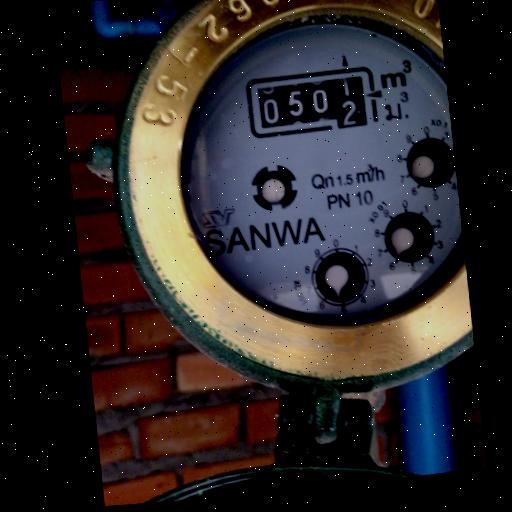0: (304, 78, 337, 123), (257, 85, 286, 129)
1: (331, 74, 367, 130)
5: (281, 81, 310, 126)
border_water_meter_number: (242, 62, 379, 142)
